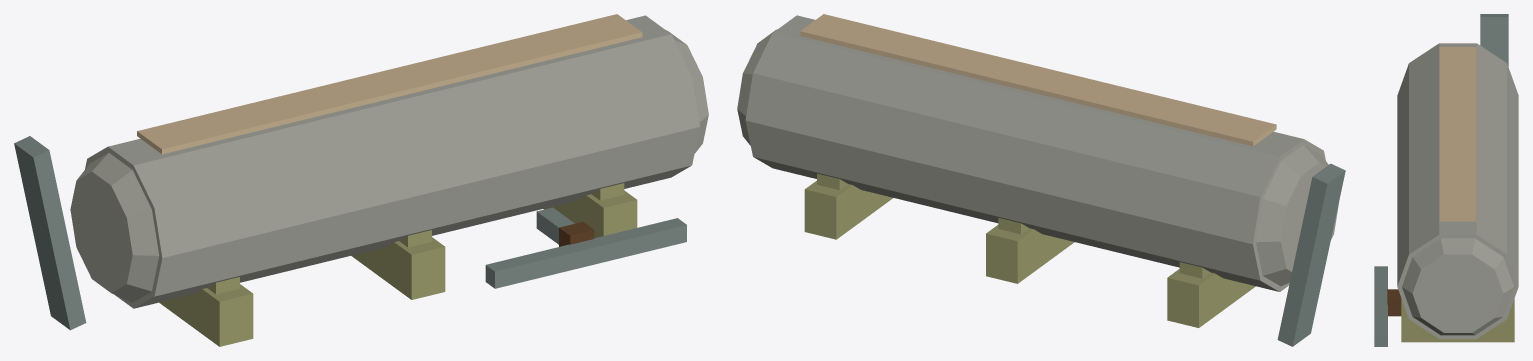
The model's file is SM_TanqueCombustible_v0_LOD1.fbx.
3 views of the same model, side by side, from view 1: azimuth 30°, elevation 25°; view 2: azimuth 150°, elevation 25°; view 3: azimuth 270°, elevation 25° (orthographic). The views are drawn at different scales.
Visible parts, largest first — view 1: SM_tanque_combustible_v0_LOD1; view 2: SM_tanque_combustible_v0_LOD1; view 3: SM_tanque_combustible_v0_LOD1.
Part boxes in pixels (left/top/right/bottom): SM_tanque_combustible_v0_LOD1: left=14, top=14, right=708, bottom=346; SM_tanque_combustible_v0_LOD1: left=737, top=14, right=1345, bottom=346; SM_tanque_combustible_v0_LOD1: left=1374, top=14, right=1518, bottom=346.
Size of the model in its own units: 13.1 by 3.7 by 3.57.
